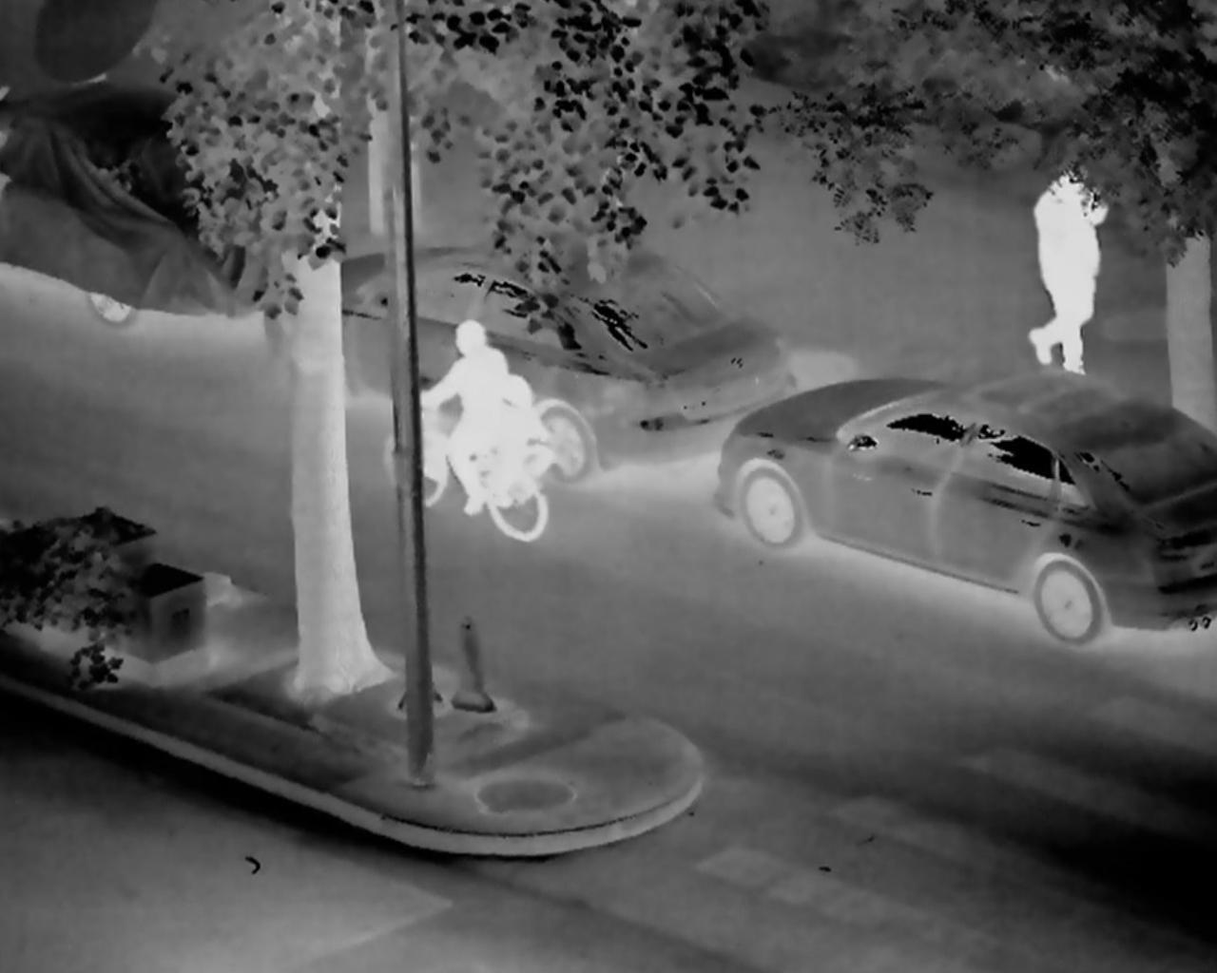person: (1026, 144, 1109, 386), (420, 318, 510, 515), (487, 369, 548, 498)
